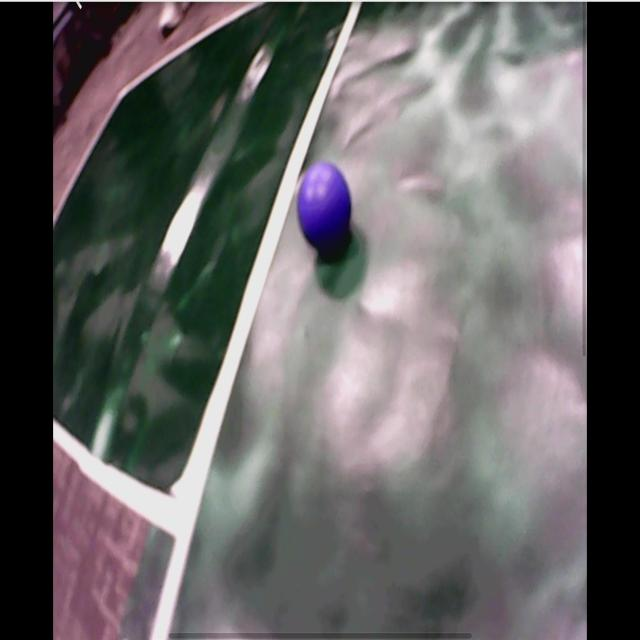ball: (298, 163, 353, 248)
